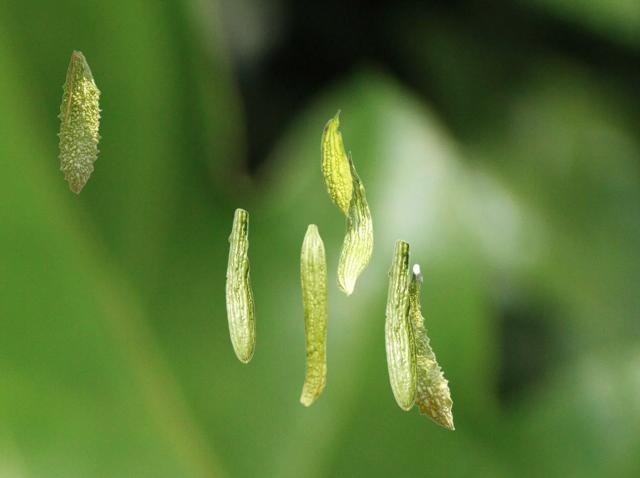ampalaya: (409, 263, 455, 430), (56, 50, 102, 194), (384, 239, 418, 411), (336, 150, 373, 297), (299, 223, 328, 406), (225, 208, 256, 363), (320, 109, 353, 220)
